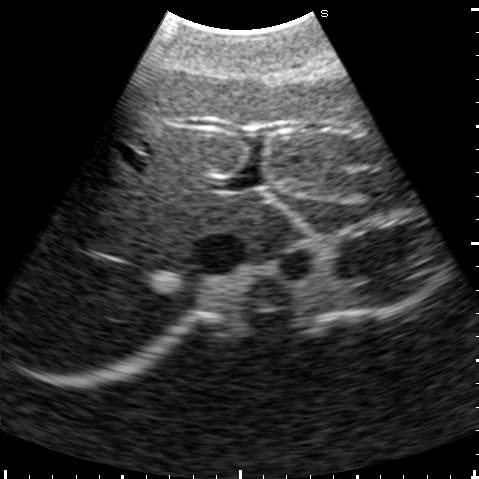IVC: (194, 232, 243, 275)
S1: (236, 194, 296, 260)
S2: (268, 186, 418, 235)
S3: (249, 70, 412, 197)
